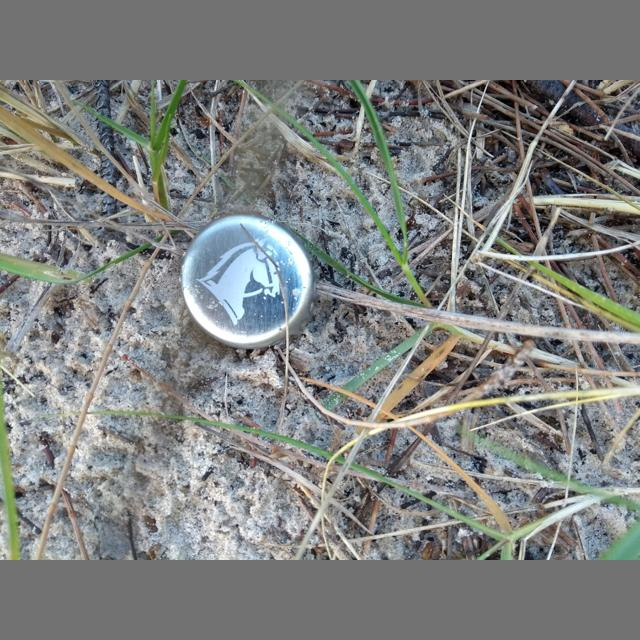litter: (180, 212, 318, 350)
